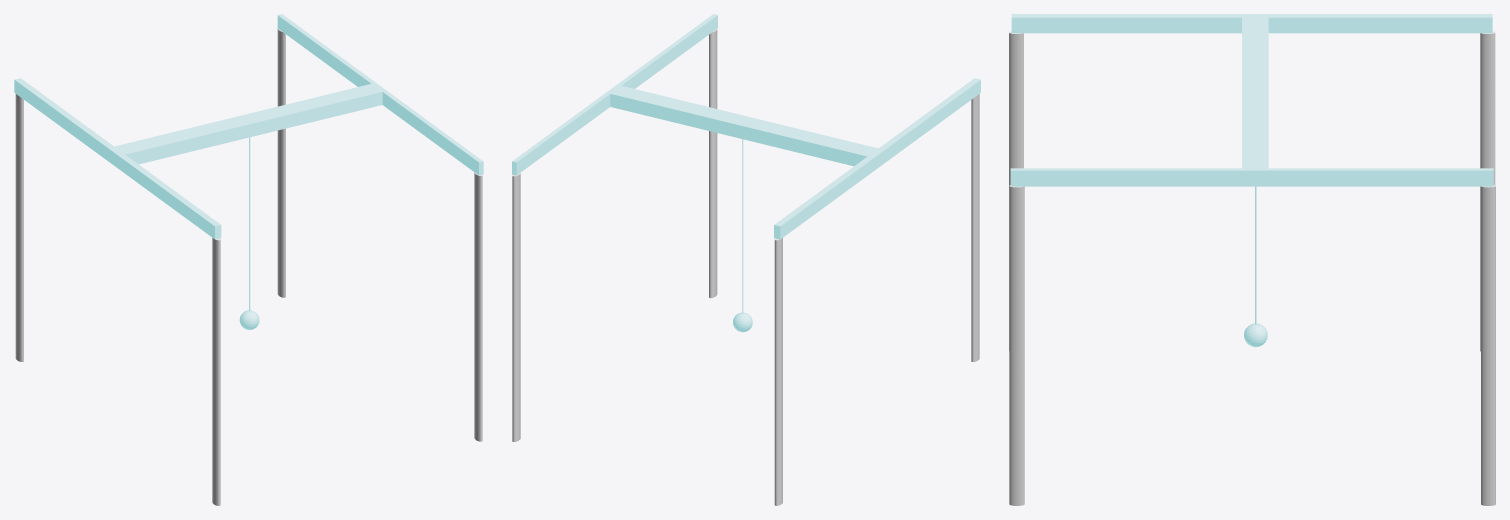
Rendered from pendulum2.glb.
The picture shows the model from 3 angles, left to right: view 1: azimuth 30°, elevation 25°; view 2: azimuth 150°, elevation 25°; view 3: azimuth 270°, elevation 25°; orthographic projection. The views are drawn at different scales.
Visible parts, largest first — view 1: pendulumtop, Cylinder.002, Cylinder; view 2: pendulumtop, Cylinder.002, Cylinder; view 3: pendulumtop, Cylinder.002, Cylinder.
Part boxes in pixels (x1=…): pendulumtop: x1=14, y1=14, x2=483, y2=239; Cylinder.002: x1=15, y1=28, x2=482, y2=505; Cylinder: x1=239, y1=137, x2=259, y2=329; pendulumtop: x1=512, y1=14, x2=980, y2=239; Cylinder.002: x1=512, y1=29, x2=979, y2=505; Cylinder: x1=733, y1=139, x2=752, y2=332; pendulumtop: x1=1010, y1=14, x2=1493, y2=186; Cylinder.002: x1=1009, y1=31, x2=1495, y2=505; Cylinder: x1=1244, y1=186, x2=1267, y2=347.
Size of the model in its own units: 0.5113 by 0.5085 by 0.6699.
